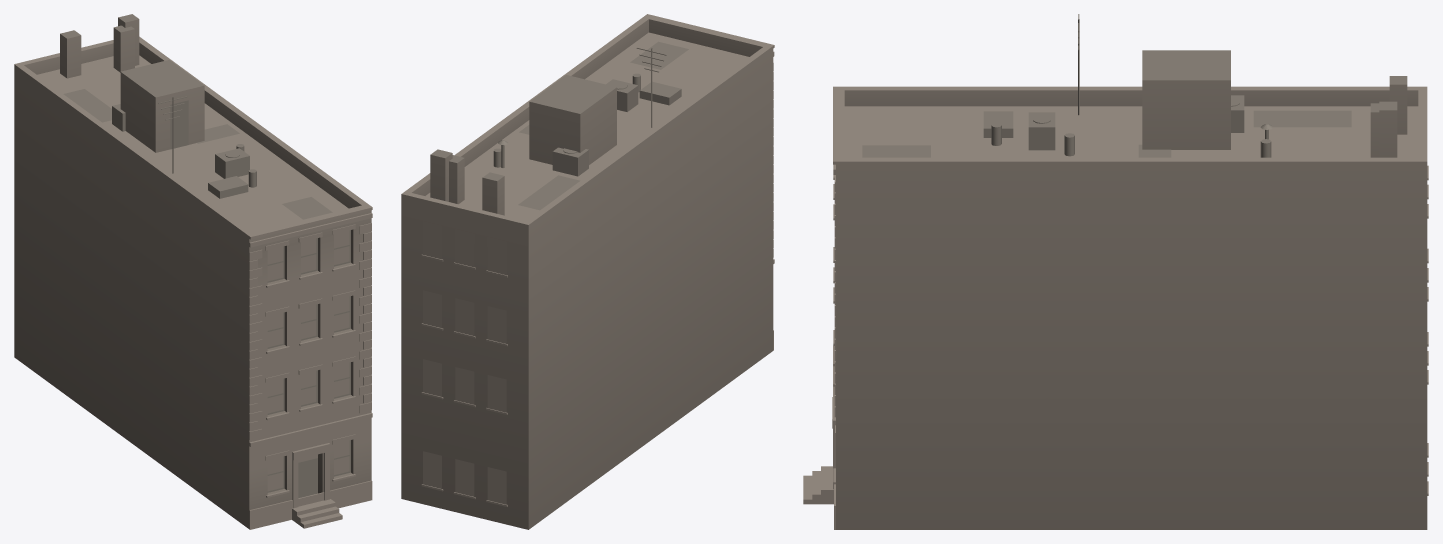
Rendered from rowhouse_c.glb.
The picture shows the model from 3 angles, left to right: view 1: azimuth 30°, elevation 25°; view 2: azimuth 150°, elevation 25°; view 3: azimuth 270°, elevation 25°; orthographic projection. The views are drawn at different scales.
Visible parts, largest first — view 1: rowhouse_c; view 2: rowhouse_c; view 3: rowhouse_c.
Boxes of the visible parts, <box> form: rowhouse_c: <box>14,14,372,529</box>; rowhouse_c: <box>401,14,774,529</box>; rowhouse_c: <box>803,14,1428,529</box>.
Bounding box in the file's own units: 6 × 16.71 × 21.15.
